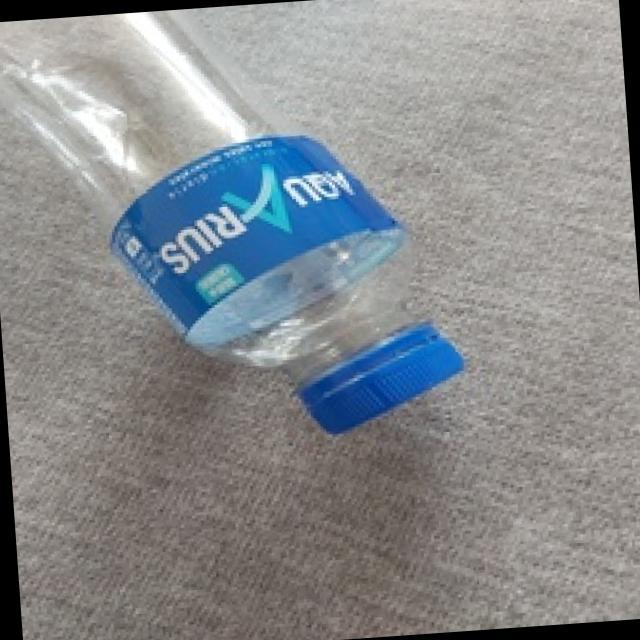good: (0, 0, 505, 468)
